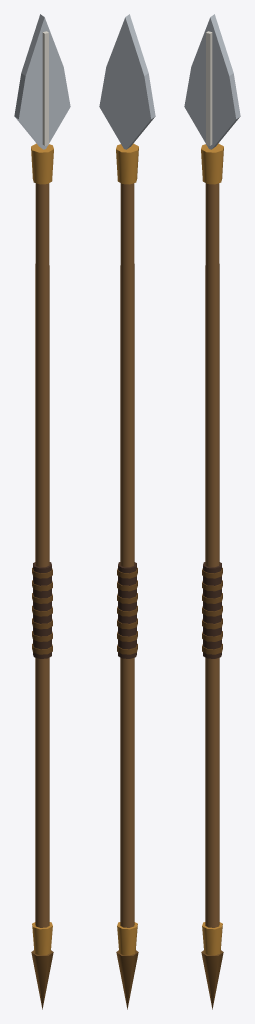
The model's file is roman-spear.glb.
3 renders of one model, left to right at view 1: azimuth 30°, elevation 25°; view 2: azimuth 150°, elevation 25°; view 3: azimuth 330°, elevation 25°, orthographic.
Parts seen in each view (by area): view 1: Shaft, LeafBlade, Grip, Collar, BladeRidge, ButtTip, ButtCap; view 2: Shaft, LeafBlade, Grip, Collar, ButtTip, ButtCap; view 3: Shaft, LeafBlade, Grip, Collar, BladeRidge, ButtTip, ButtCap.
Part boxes in pixels (x1,y1,x2,y2): Shaft: [35, 183, 49, 927]; LeafBlade: [14, 14, 70, 149]; Grip: [33, 562, 51, 658]; Collar: [31, 143, 53, 184]; BladeRidge: [42, 31, 48, 145]; ButtTip: [31, 950, 53, 1009]; ButtCap: [32, 922, 52, 955]; Shaft: [120, 183, 134, 927]; LeafBlade: [99, 14, 155, 149]; Grip: [118, 562, 136, 658]; Collar: [116, 143, 138, 184]; ButtTip: [116, 950, 138, 1009]; ButtCap: [117, 922, 137, 955]; Shaft: [205, 183, 219, 927]; LeafBlade: [184, 14, 240, 149]; Grip: [203, 562, 221, 658]; Collar: [201, 143, 223, 184]; BladeRidge: [206, 31, 212, 145]; ButtTip: [201, 950, 223, 1009]; ButtCap: [202, 922, 222, 955].
Bounding box in the file's own units: 0.15 × 2.75 × 0.06.
